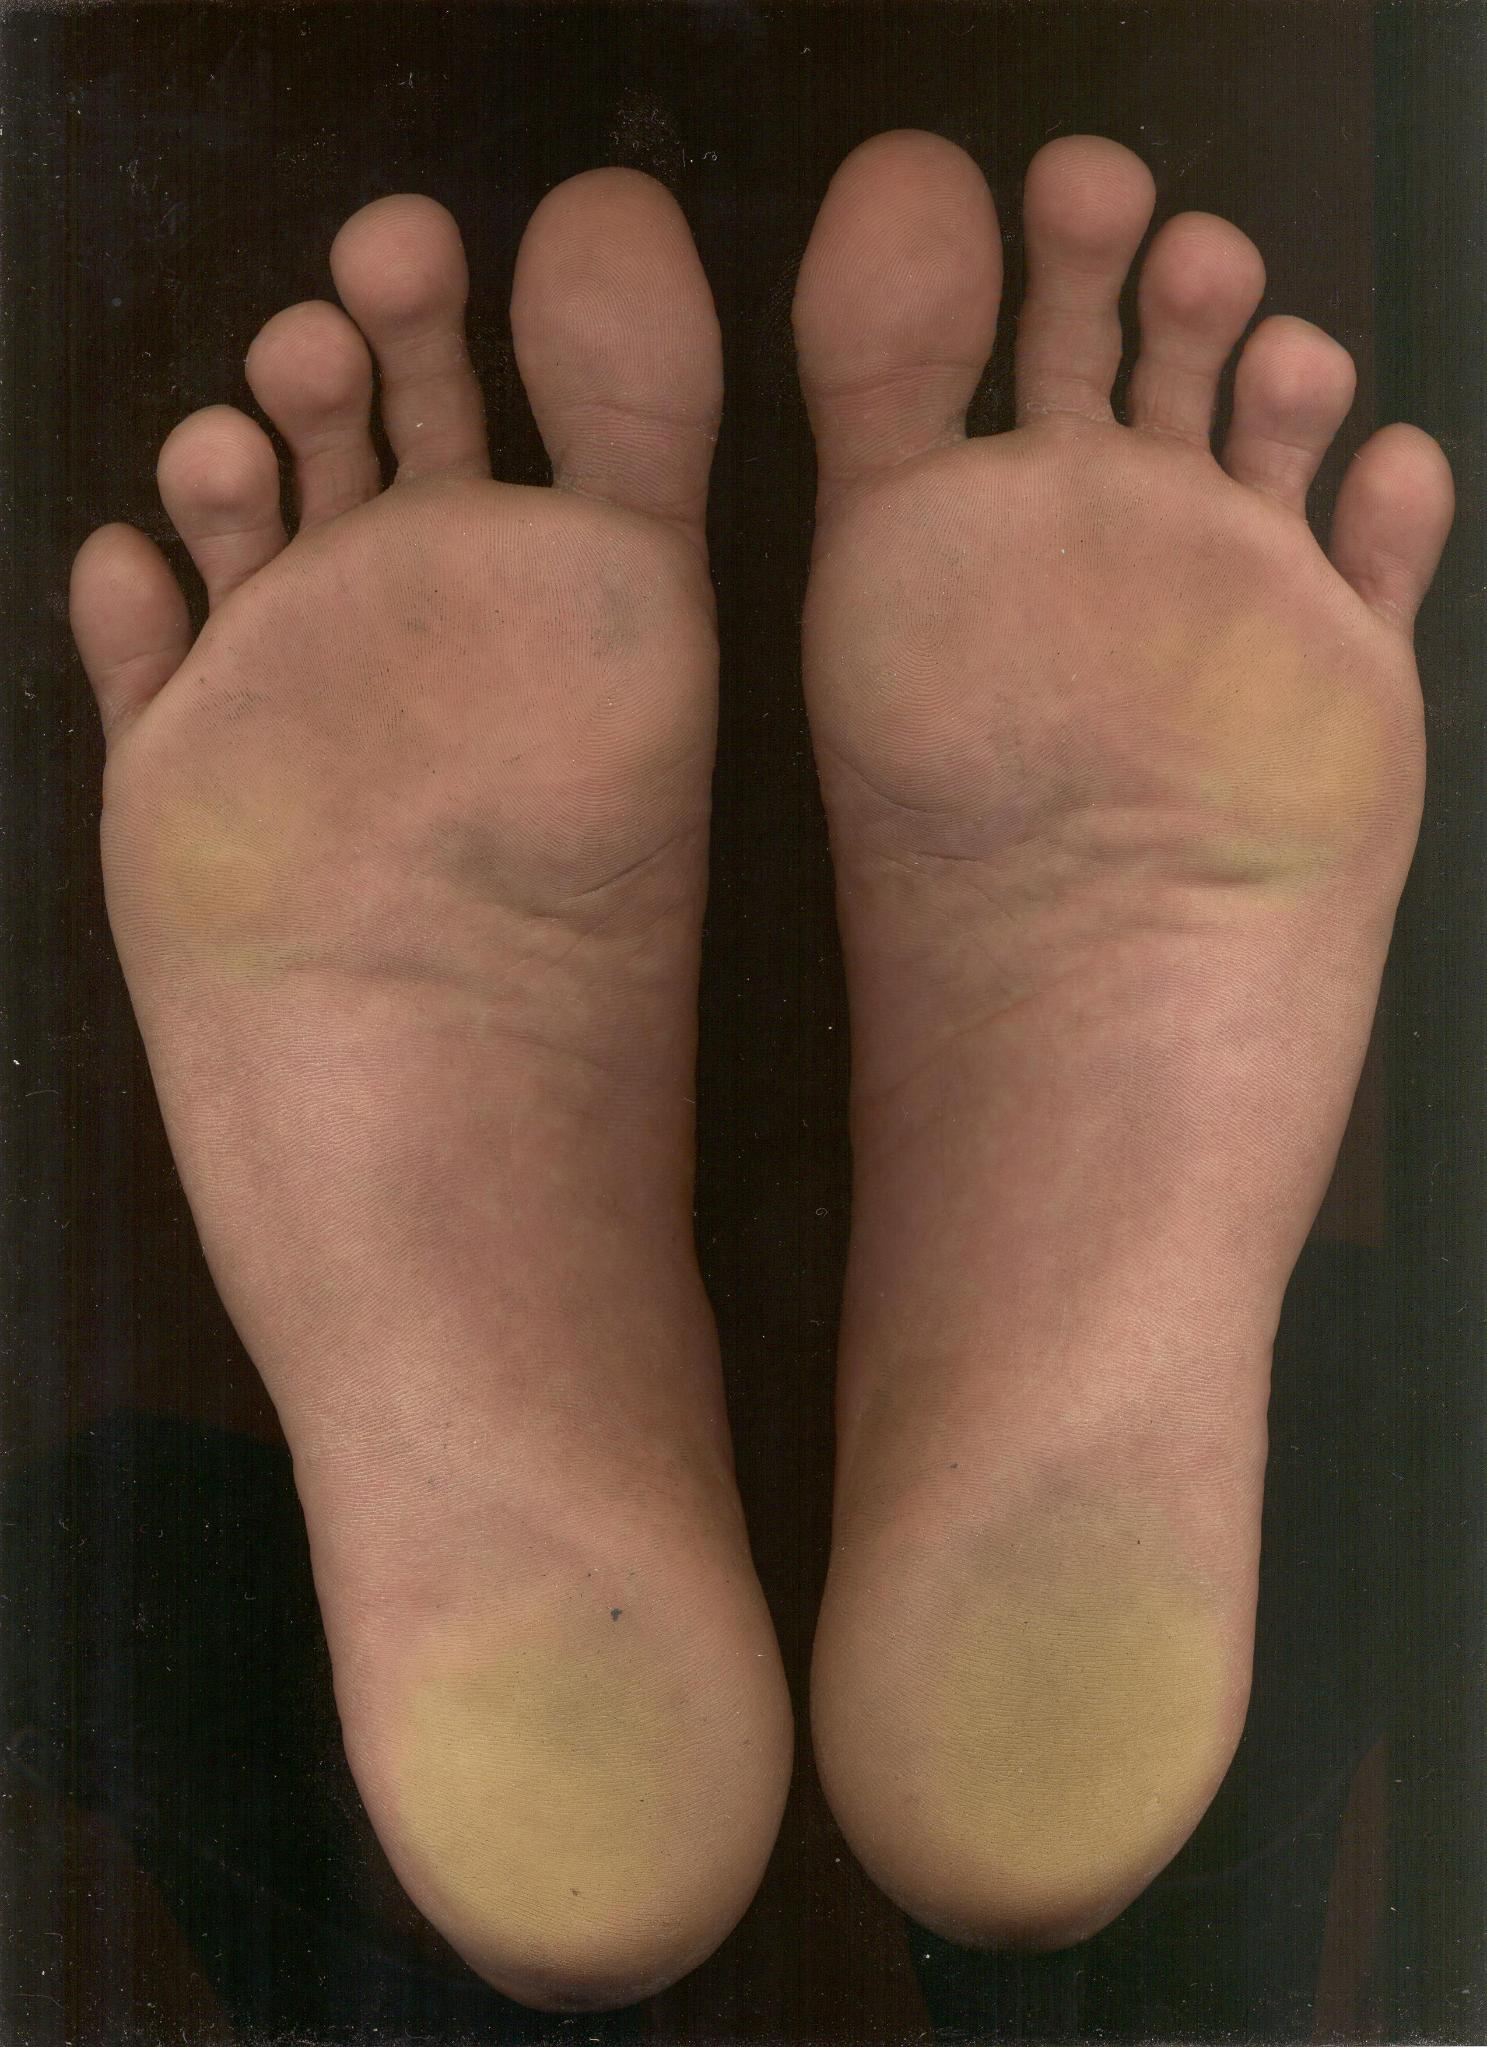Present: (59, 146, 758, 2018), (812, 106, 1465, 1979)
